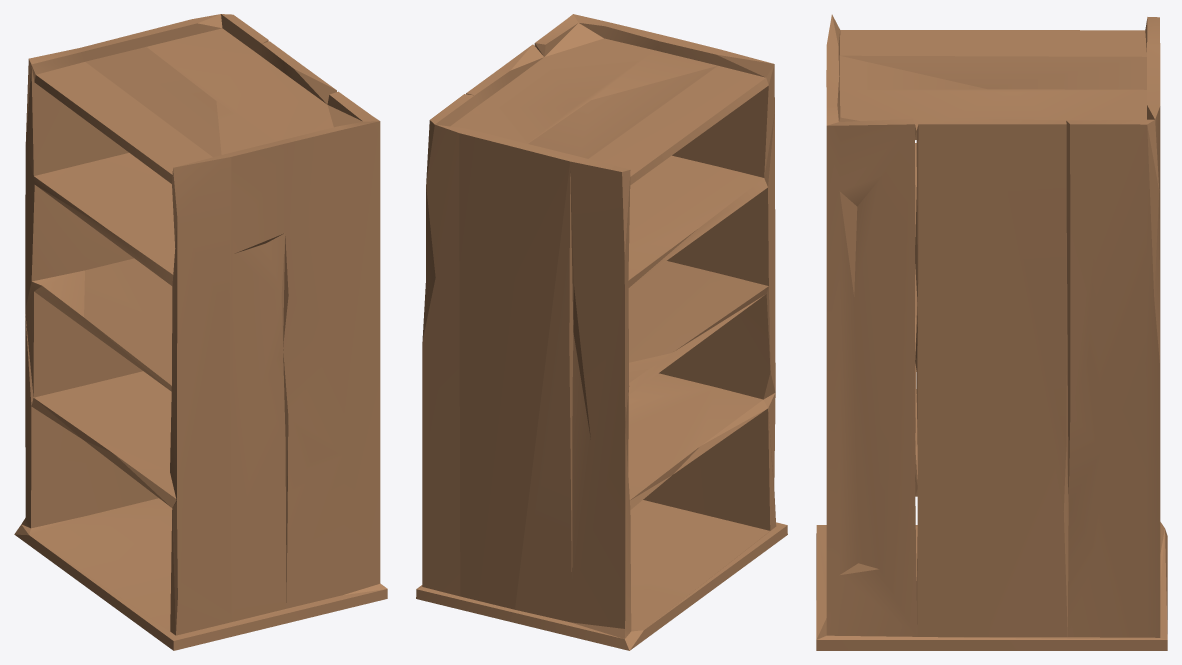
File: Scaffale.fbx
3 views of the same model, side by side, from view 1: azimuth 30°, elevation 25°; view 2: azimuth 150°, elevation 25°; view 3: azimuth 270°, elevation 25° (orthographic). The views are drawn at different scales.
Parts seen in each view (by area): view 1: cupboarShabby; view 2: cupboarShabby; view 3: cupboarShabby.
Boxes of the visible parts, box(x1,y1,x2,y2) form: cupboarShabby: box(14, 14, 387, 650); cupboarShabby: box(416, 14, 787, 650); cupboarShabby: box(816, 14, 1167, 650).
Bounding box in the file's own units: 96.12 × 204 × 124.
Materials: 1 (1 with a texture image).
